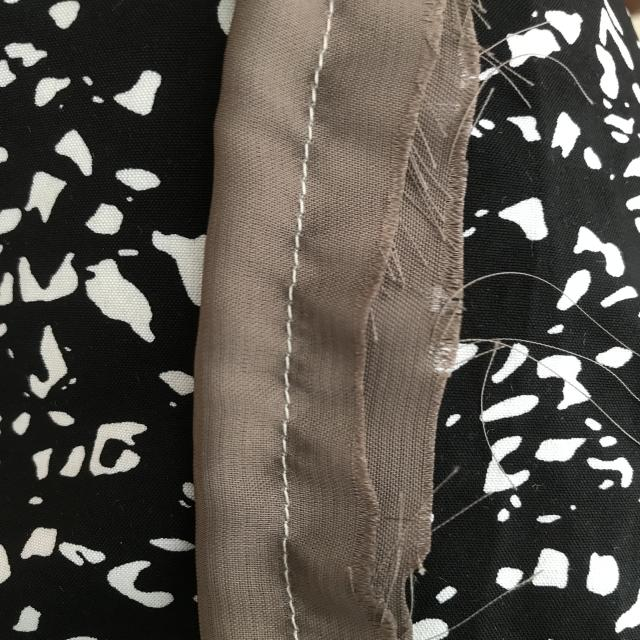good: (261, 442, 311, 536), (302, 21, 341, 137), (278, 173, 328, 258), (273, 304, 304, 416), (272, 557, 306, 627)
